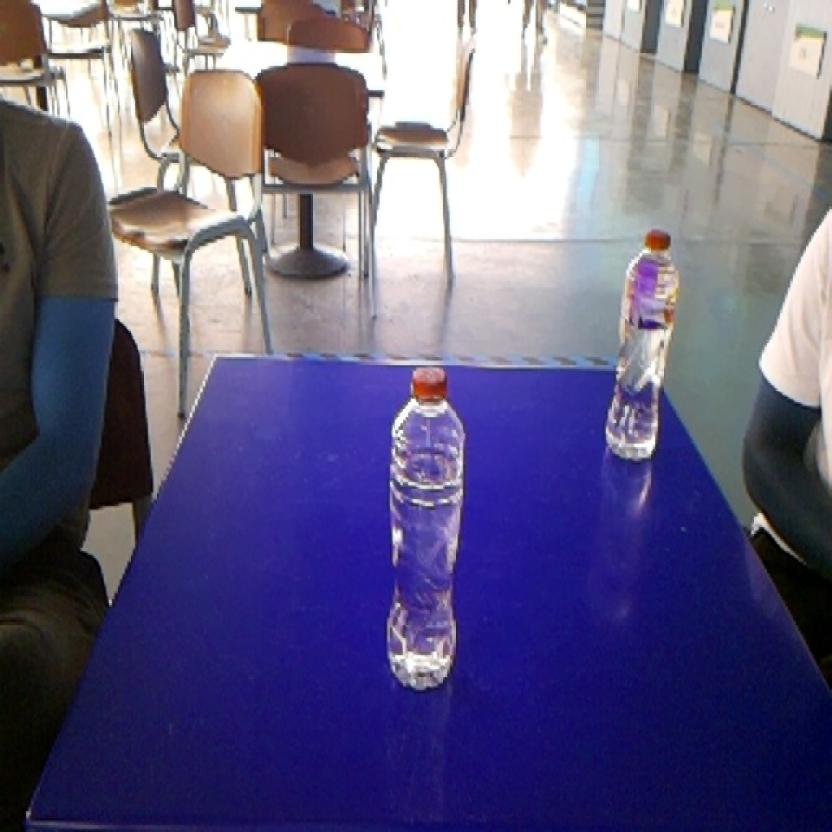good: (598, 221, 686, 471)
no_label: (379, 361, 473, 702)
